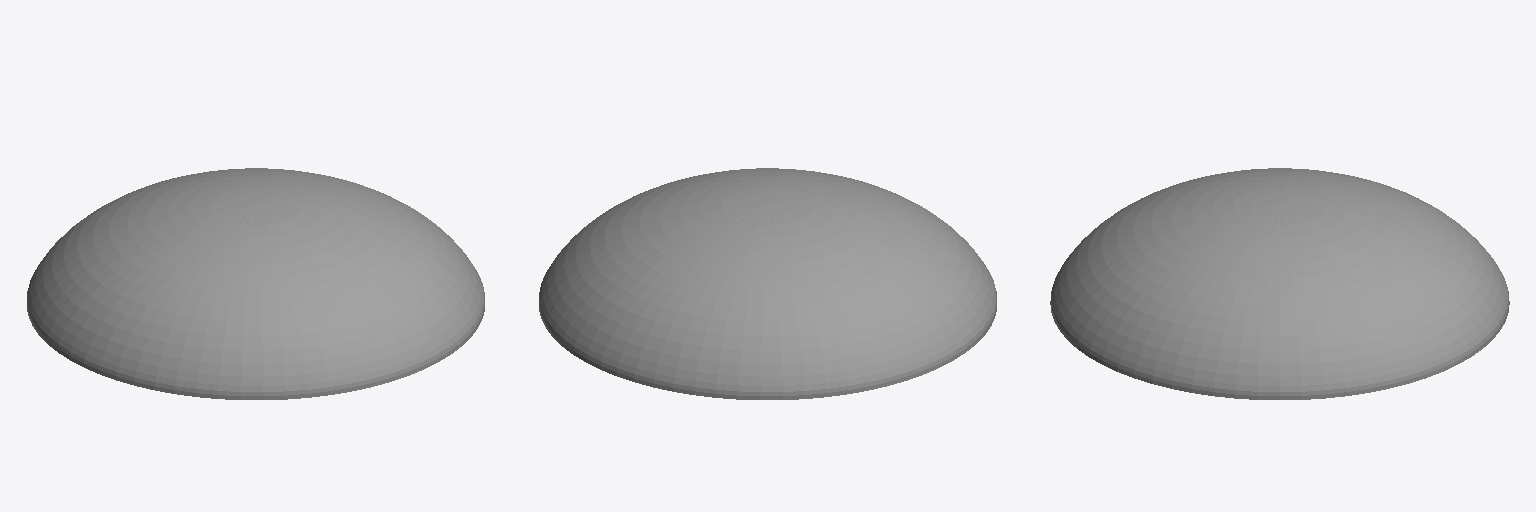
Rendered from redgo.obj.
The picture shows the model from 3 angles: view 1: azimuth 30°, elevation 25°; view 2: azimuth 150°, elevation 25°; view 3: azimuth 270°, elevation 25°; orthographic projection.
Parts seen in each view (by area): view 1: Sphere; view 2: Sphere; view 3: Sphere.
Boxes of the visible parts, x1,y1,x2,y2 form: Sphere: [27, 168, 484, 399]; Sphere: [539, 168, 996, 399]; Sphere: [1050, 168, 1509, 399].
Bounding box in the file's own units: 1.93 × 0.4783 × 1.93.